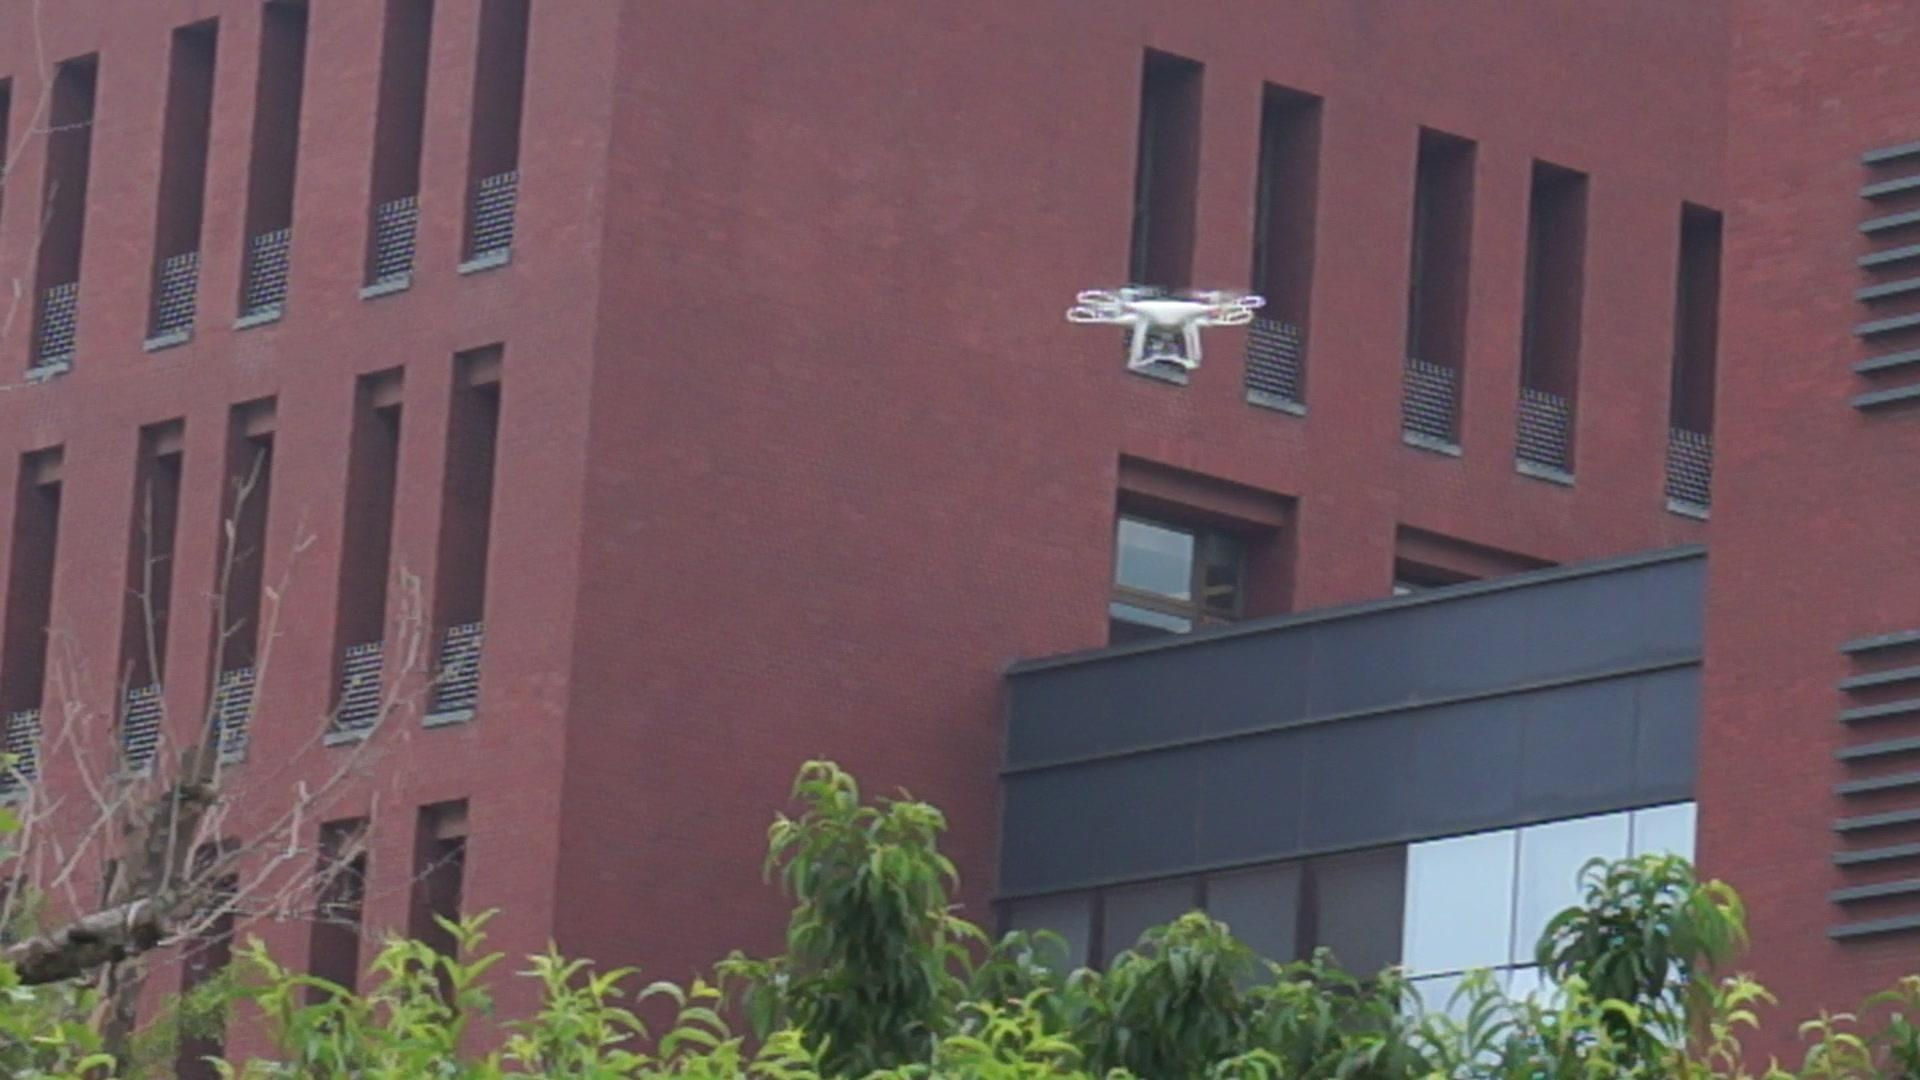UAV: (1065, 286, 1269, 371)
